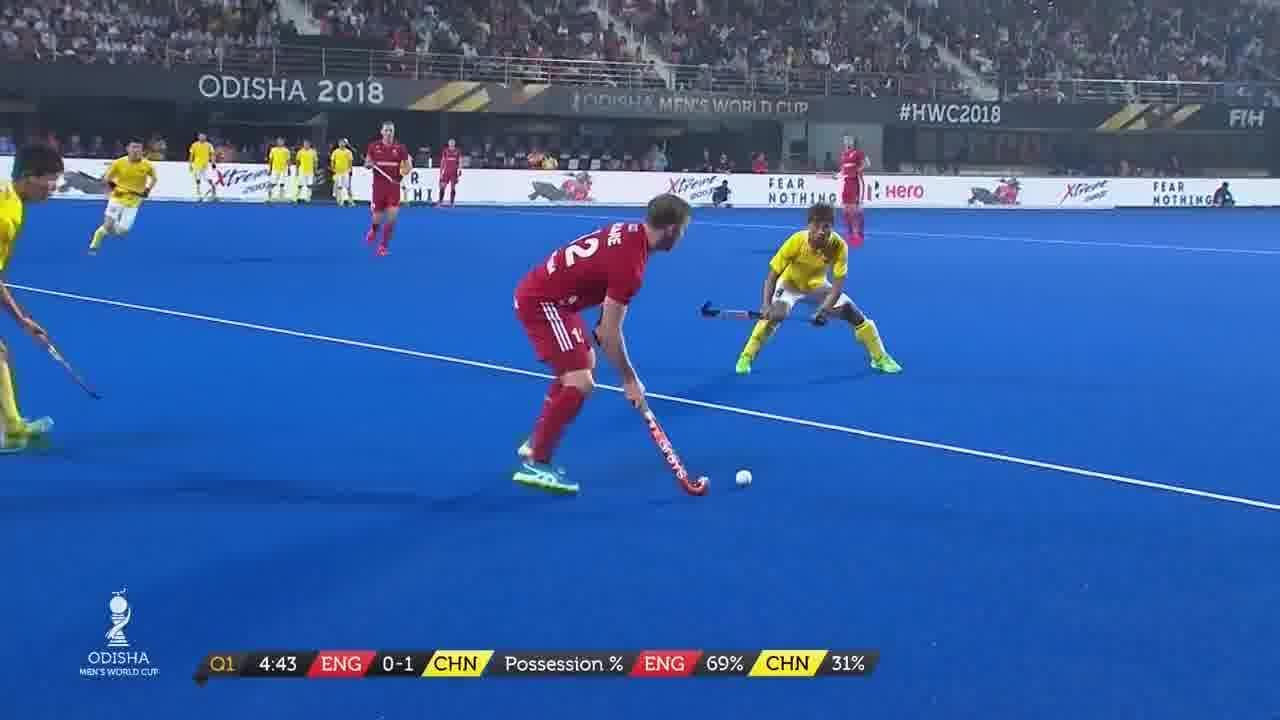ball: (734, 468, 758, 492)
